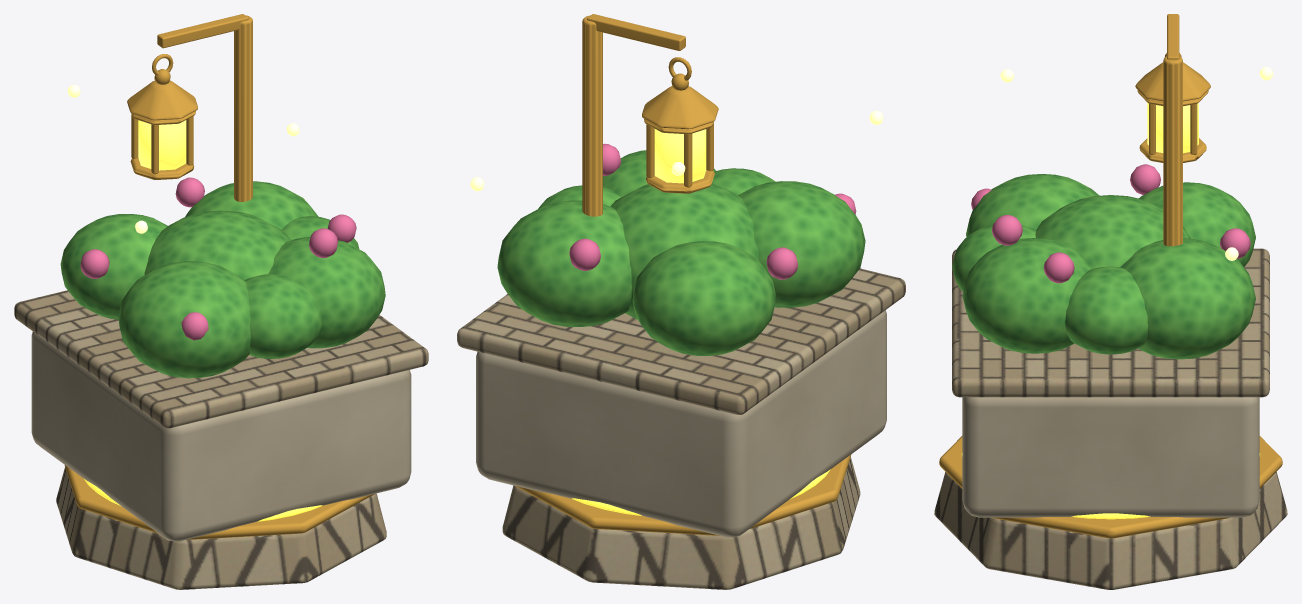
The model's file is hedge_block.glb.
The picture shows the model from 3 angles, left to right: view 1: azimuth 30°, elevation 25°; view 2: azimuth 150°, elevation 25°; view 3: azimuth 270°, elevation 25°; orthographic projection. The views are drawn at different scales.
Visible parts, largest first — view 1: hedge_block; view 2: hedge_block; view 3: hedge_block.
Part boxes in pixels (x1,y1,x2,y2): hedge_block: (14, 14, 428, 589); hedge_block: (457, 14, 905, 589); hedge_block: (934, 14, 1287, 589).
Bounding box in the file's own units: 1.02 × 1.56 × 1.02.
6 materials, 1 textured.
